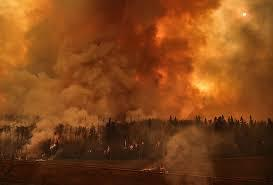yanwu: (1, 1, 273, 146)
